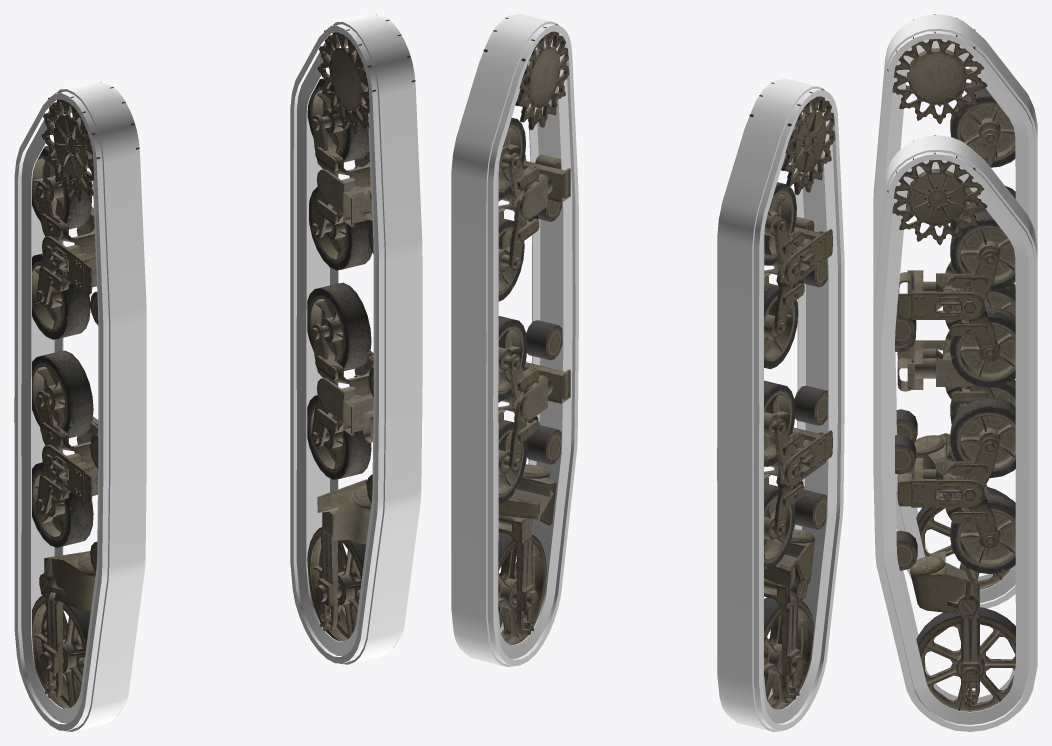
The model's file is Chassis.glb.
3 renders of one model, left to right at view 1: azimuth 30°, elevation 25°; view 2: azimuth 150°, elevation 25°; view 3: azimuth 270°, elevation 25°, orthographic. The views are drawn at different scales.
Parts seen in each view (by area): view 1: set_1_group_0, set_0_group_0, set_3_group_0, set_2_group_0; view 2: set_0_group_0, set_1_group_0, set_3_group_0, set_2_group_0; view 3: set_2_group_0, set_1_group_0, set_3_group_0, set_0_group_0.
Part boxes in pixels (x1,y1,x2,y2): set_1_group_0: (290,14,422,664); set_0_group_0: (14,81,146,731); set_3_group_0: (32,82,139,708); set_2_group_0: (307,14,415,641); set_0_group_0: (717,79,844,731); set_1_group_0: (451,14,578,666); set_3_group_0: (749,82,837,709); set_2_group_0: (483,17,570,644); set_2_group_0: (887,135,1015,711); set_1_group_0: (873,135,1037,731); set_3_group_0: (887,14,1015,589); set_0_group_0: (873,14,1037,608).
Bounding box in the file's own units: 2.26 × 4.18 × 1.07.
4 materials, 2 textured.
